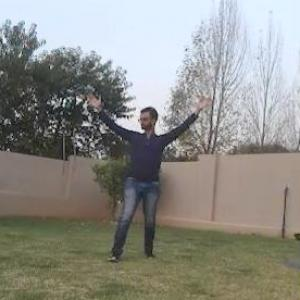takeoff: (77, 91, 212, 260)
